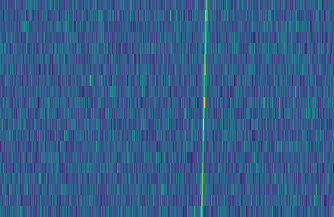signal: (197, 0, 211, 217)
